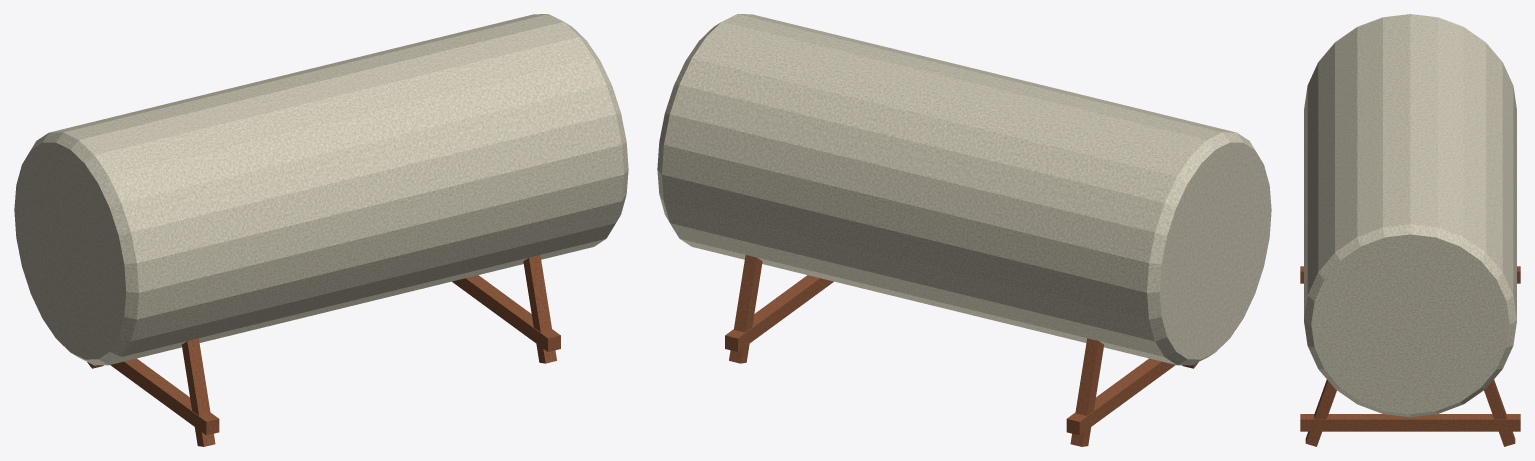
Rendered from WHTTANK2_lod2.glb.
3 renders of one model, left to right at view 1: azimuth 30°, elevation 25°; view 2: azimuth 150°, elevation 25°; view 3: azimuth 270°, elevation 25°, orthographic. The views are drawn at different scales.
Visible parts, largest first — view 1: WHTTANK2_LOD2; view 2: WHTTANK2_LOD2; view 3: WHTTANK2_LOD2.
Boxes of the visible parts, left/top/right/bottom form: WHTTANK2_LOD2: left=14, top=14, right=628, bottom=446; WHTTANK2_LOD2: left=657, top=14, right=1271, bottom=446; WHTTANK2_LOD2: left=1300, top=14, right=1520, bottom=446.
Size of the model in its own units: 7 by 3.77 by 3.
2 materials, 2 textured.
